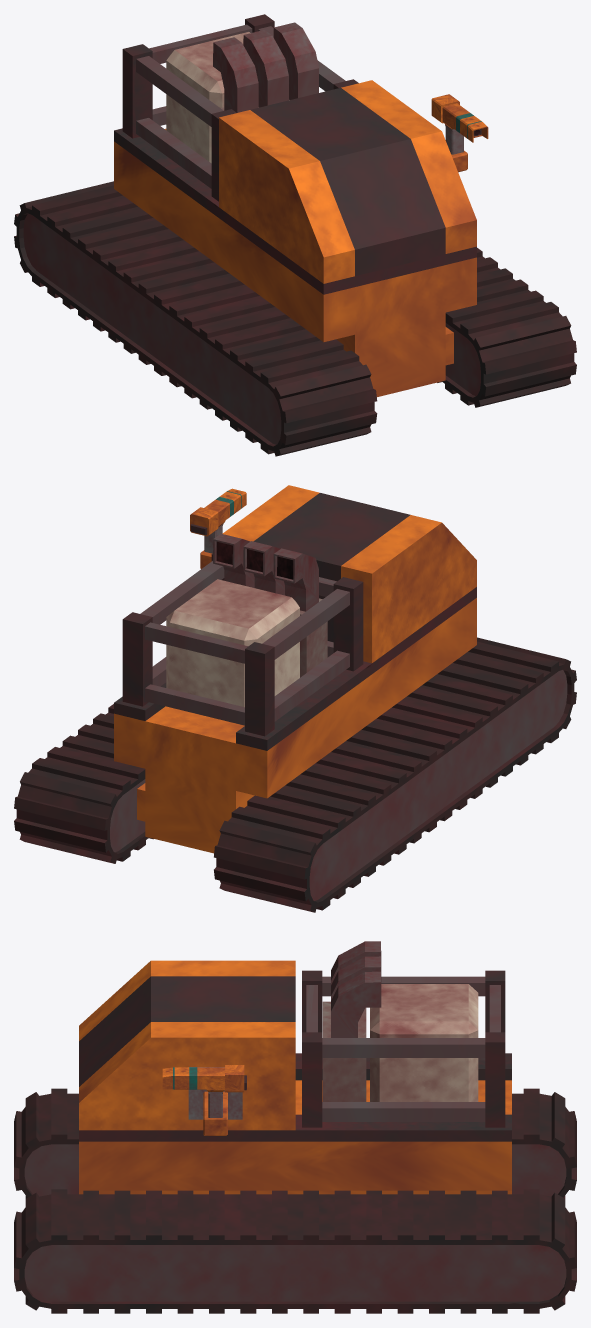
The model's file is enemy.gltf.
The picture shows the model from 3 angles, top to bottom: view 1: azimuth 30°, elevation 25°; view 2: azimuth 150°, elevation 25°; view 3: azimuth 270°, elevation 25°; orthographic projection. The views are drawn at different scales.
Visible parts, largest first — view 1: 敵(本体); view 2: 敵(本体); view 3: 敵(本体).
Boxes of the visible parts, x1,y1,x2,y2 form: 敵(本体): [14, 14, 576, 456]; 敵(本体): [14, 485, 576, 912]; 敵(本体): [14, 941, 576, 1313].
Size of the model in its own units: 3.2 by 2.84 by 5.2.
1 material, 1 textured.
